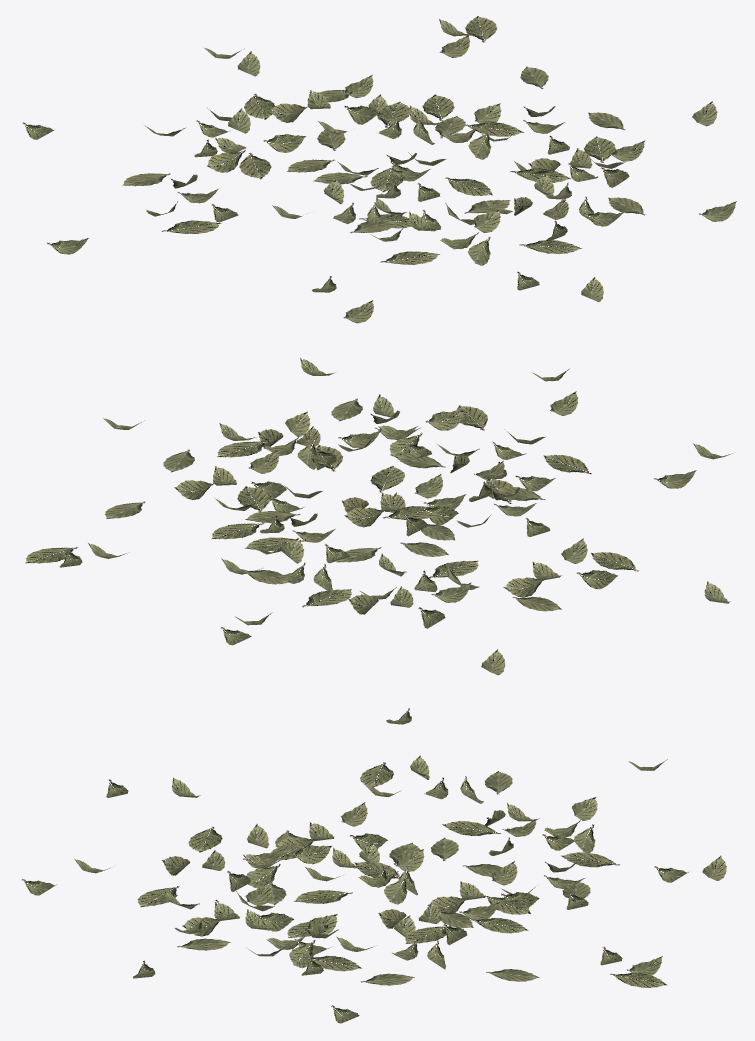
File: leafs_decal.fbx
3 renders of one model, top to bottom at view 1: azimuth 30°, elevation 25°; view 2: azimuth 150°, elevation 25°; view 3: azimuth 270°, elevation 25°, orthographic. The views are drawn at different scales.
Visible parts, largest first — view 1: leafs_decal; view 2: leafs_decal; view 3: leafs_decal.
Boxes of the visible parts, bbox=[...] form: leafs_decal: bbox=[22, 16, 736, 323]; leafs_decal: bbox=[25, 357, 732, 675]; leafs_decal: bbox=[22, 708, 726, 1023].
Size of the model in its own units: 22.36 by 0.8445 by 21.59.
